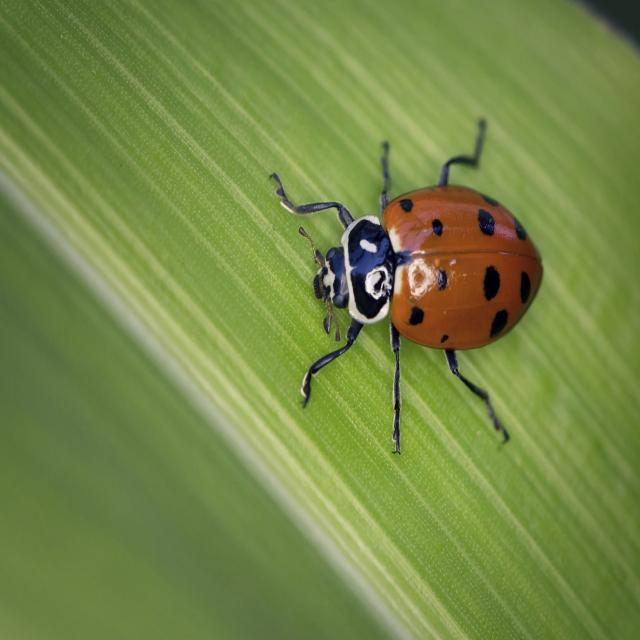ladybug: (271, 118, 543, 453)
